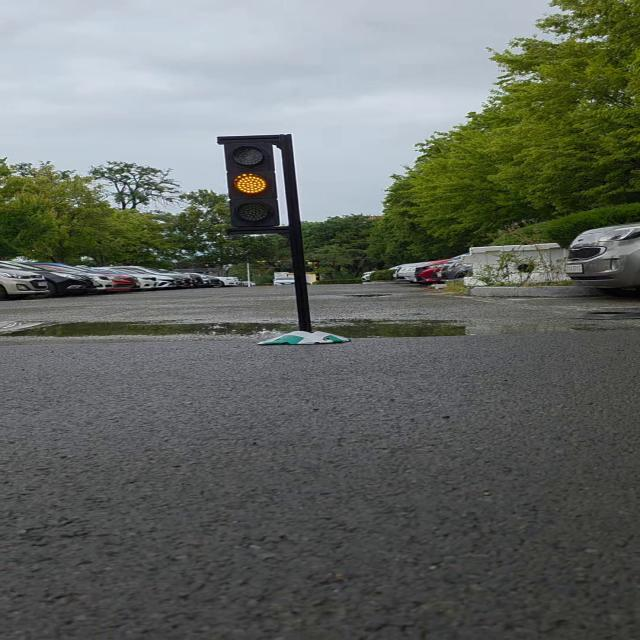yellow: (216, 137, 289, 234)
